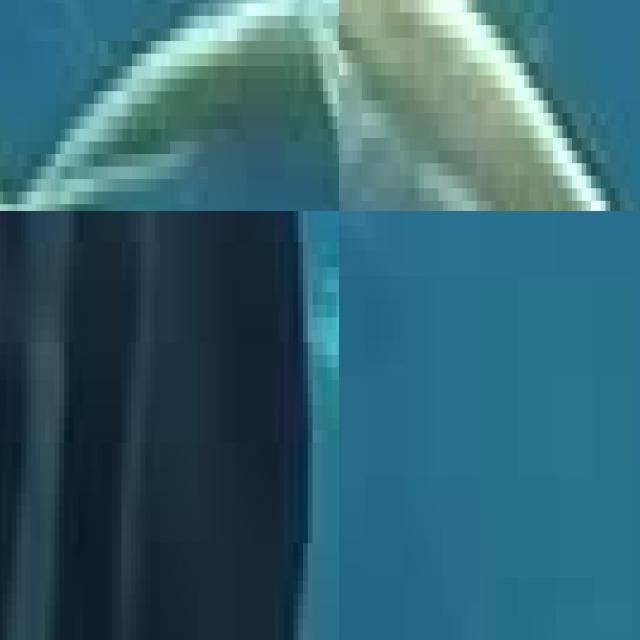fish: (0, 0, 339, 211), (339, 0, 640, 211)
